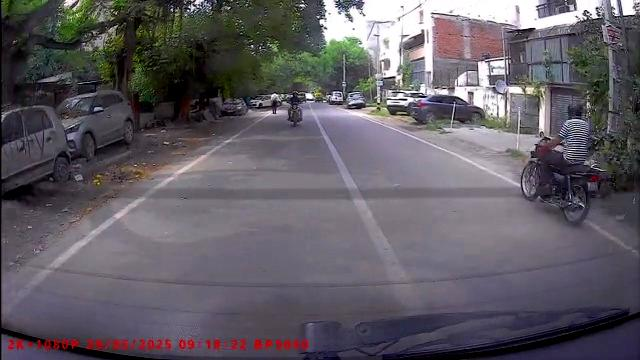motorcycle_with_helmet: (286, 89, 304, 128)
